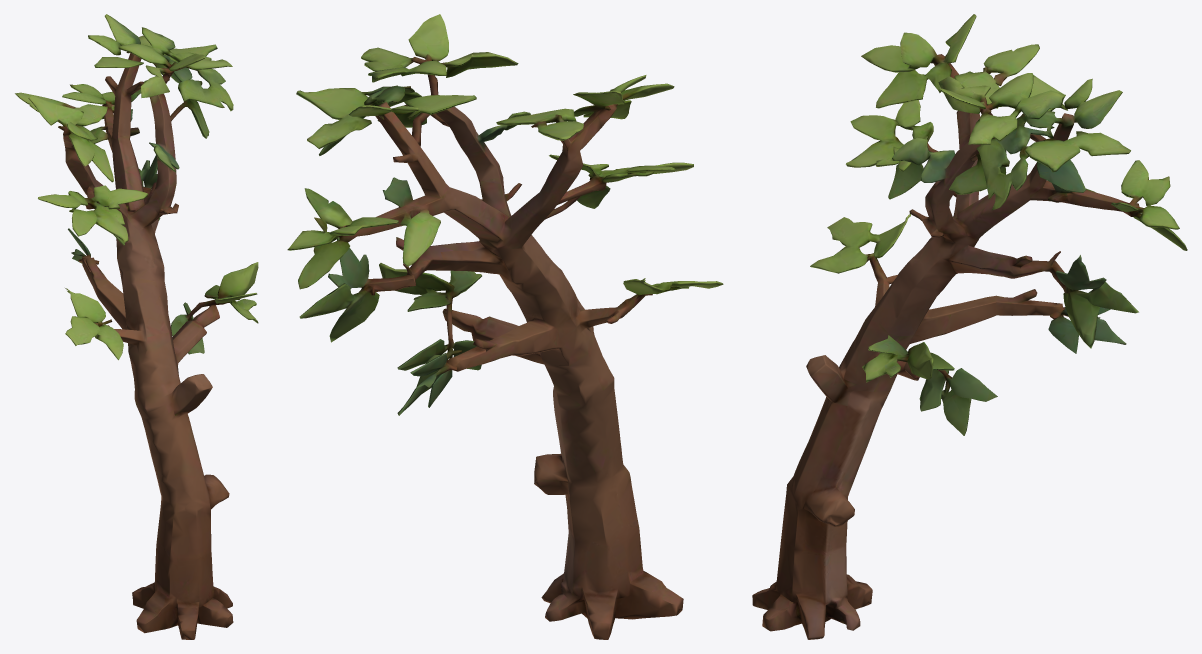
3 renders of one model, left to right at view 1: azimuth 30°, elevation 25°; view 2: azimuth 150°, elevation 25°; view 3: azimuth 270°, elevation 25°, orthographic. The views are drawn at different scales.
Parts seen in each view (by area): view 1: tripo_node_520ec9a8-43a4-45a5-a4e2-c787ee1c2179; view 2: tripo_node_520ec9a8-43a4-45a5-a4e2-c787ee1c2179; view 3: tripo_node_520ec9a8-43a4-45a5-a4e2-c787ee1c2179.
Part boxes in pixels (x1,y1,x2,y2): tripo_node_520ec9a8-43a4-45a5-a4e2-c787ee1c2179: [15, 14, 258, 639]; tripo_node_520ec9a8-43a4-45a5-a4e2-c787ee1c2179: [287, 14, 723, 639]; tripo_node_520ec9a8-43a4-45a5-a4e2-c787ee1c2179: [752, 14, 1187, 639].
Bounding box in the file's own units: 0.6115 × 1.2 × 0.8326.
Materials: 1 (1 with a texture image).
